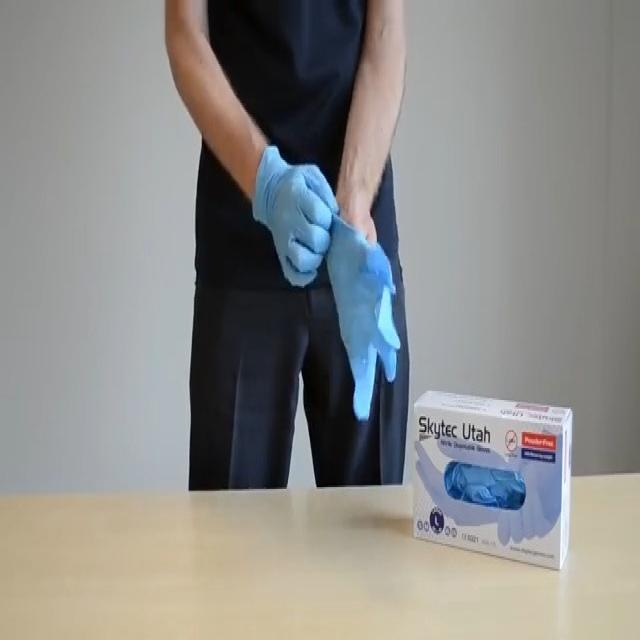Gloves: (248, 136, 339, 289)
